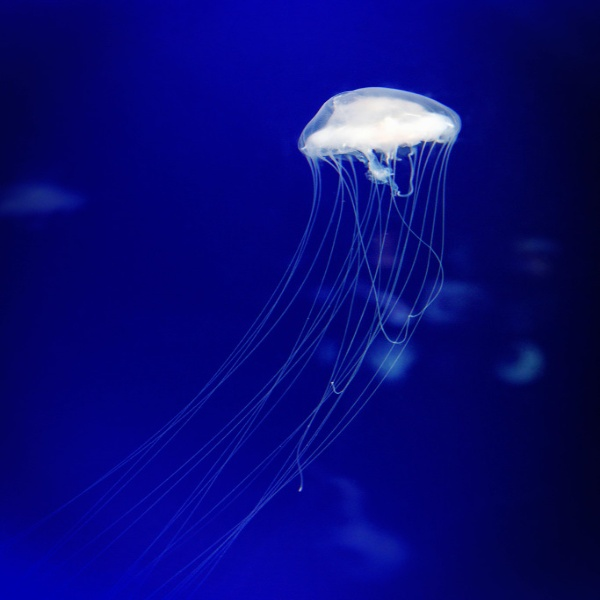Jellyfish: (0, 82, 461, 599)
